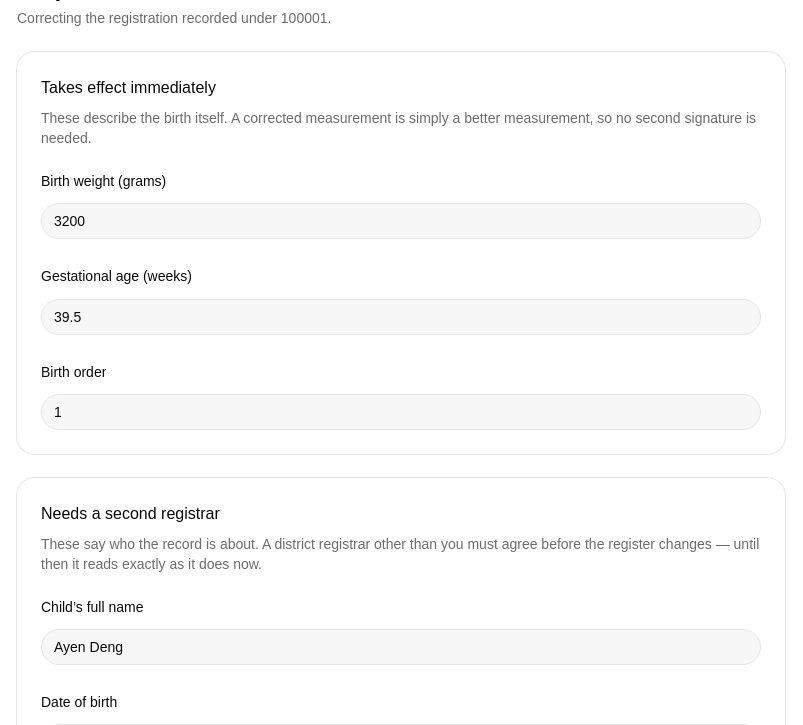
Test: RequestCorrection › does not let a 202 read as a failure, or as a success
Expected: the number field labelled "Birth weight (grams)" is shown, x1=41 y1=203 x2=761 y2=239
Step 1. Replace the text in the field labelled "Child’s full name" with "Ayen Deng Lado" → [401, 647], box x1=41 y1=629 x2=761 y2=665
(page scrolled)
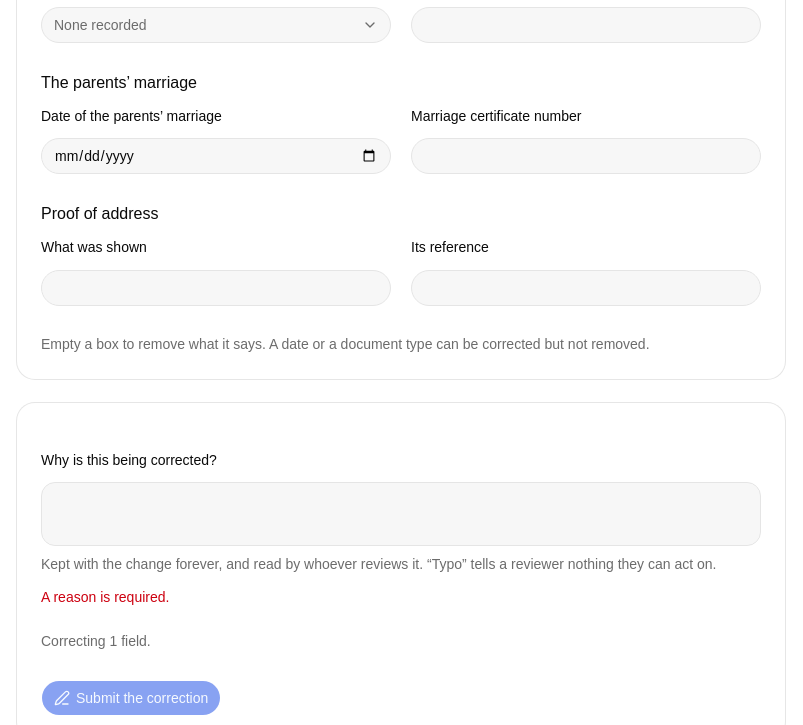
Step 2. Type "Family name omitted at intake." into the text box labelled "Why is this being corrected?" → [401, 514], box x1=41 y1=482 x2=761 y2=546
(page scrolled)
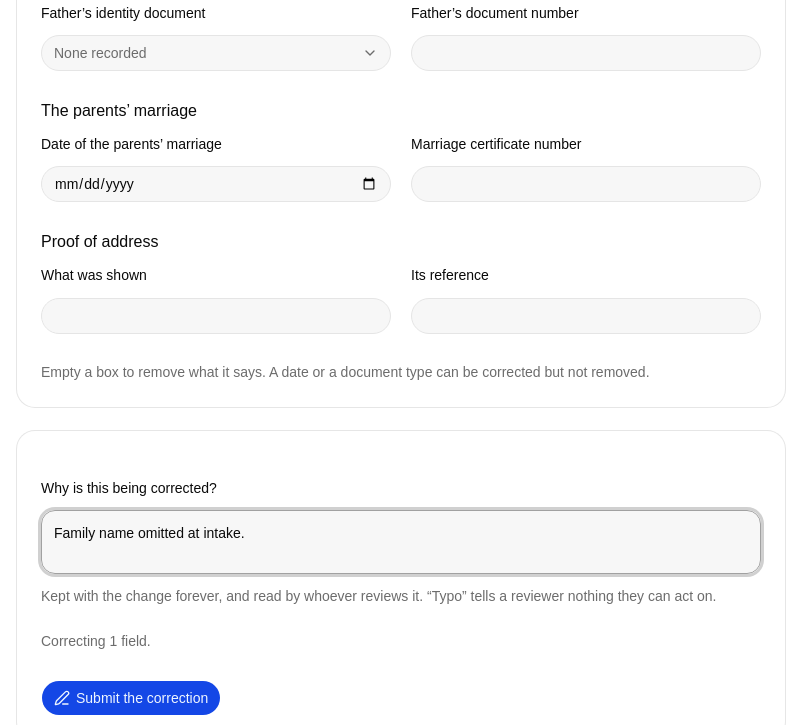
Step 3. Click the button "Submit the correction" → [131, 698], box x1=41 y1=680 x2=221 y2=716
(page scrolled)
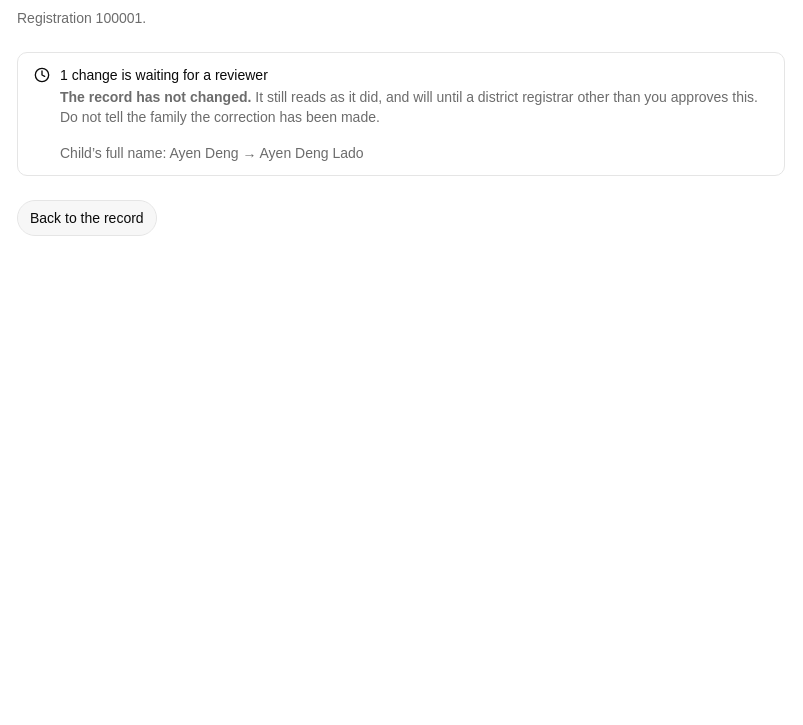
Expected: the text "1 change is waiting for a reviewer" is shown, x1=60 y1=67 x2=268 y2=83
Expected: the text "The record has not changed." is shown, x1=60 y1=89 x2=251 y2=105
Expected: the text "Do not tell the family the correction has been made" is shown, x1=60 y1=89 x2=758 y2=125
